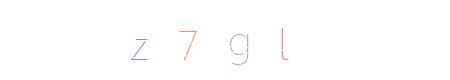7: (185, 0, 265, 80)
G: (187, 0, 267, 80)
L: (187, 0, 267, 80)
Z: (99, 0, 179, 80)
